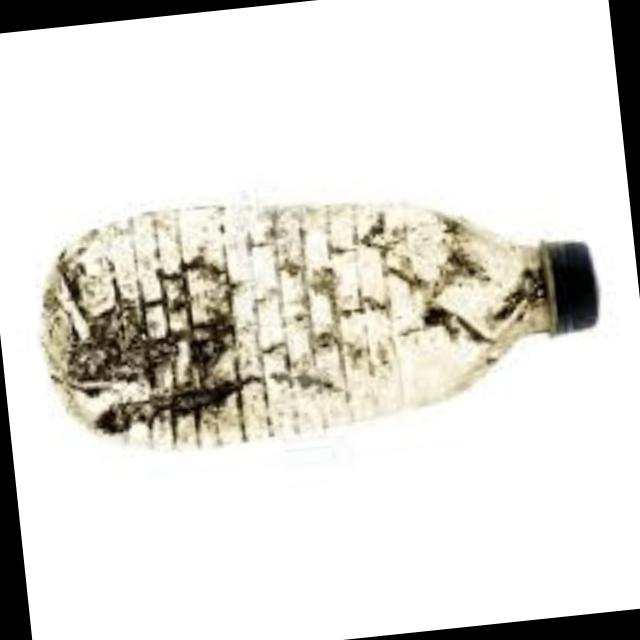plastic: (50, 207, 602, 451)
